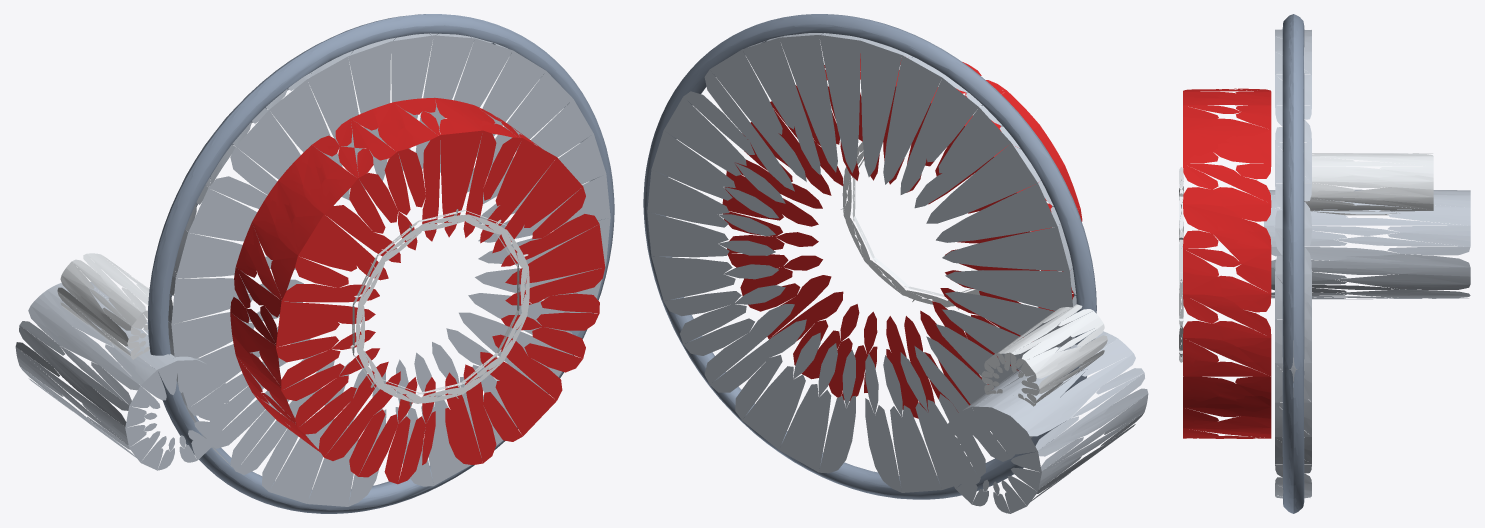
Rendered from racing_clutch_flywheel.glb.
3 renders of one model, left to right at view 1: azimuth 30°, elevation 25°; view 2: azimuth 150°, elevation 25°; view 3: azimuth 270°, elevation 25°, orthographic. The views are drawn at different scales.
Parts seen in each view (by area): view 1: Racing_Clutch_Flywheel_Assembly; view 2: Racing_Clutch_Flywheel_Assembly; view 3: Racing_Clutch_Flywheel_Assembly.
Boxes of the visible parts, x1=… form: Racing_Clutch_Flywheel_Assembly: x1=15, y1=14, x2=614, y2=513; Racing_Clutch_Flywheel_Assembly: x1=643, y1=14, x2=1148, y2=513; Racing_Clutch_Flywheel_Assembly: x1=1179, y1=14, x2=1470, y2=513.
Size of the model in its own units: 0.3675 by 0.339 by 0.198.
